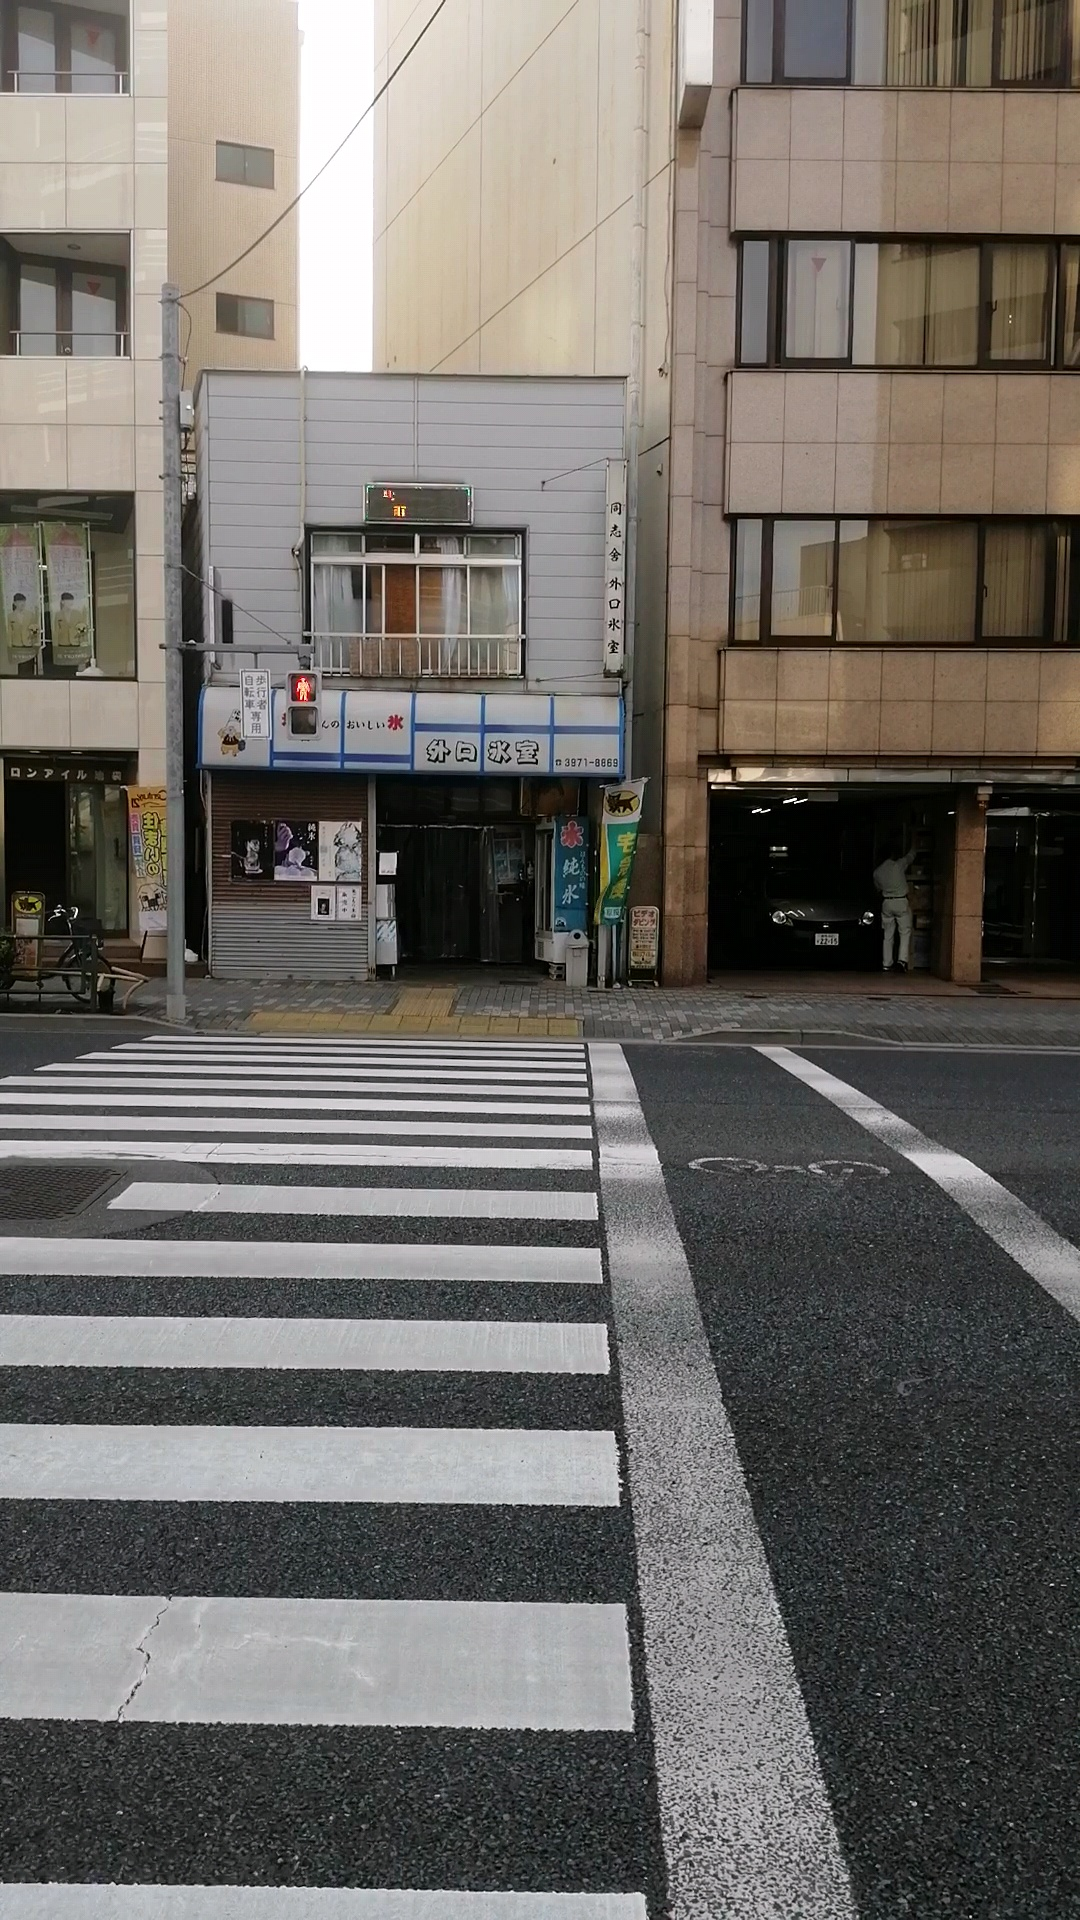red: (285, 671, 320, 738)
